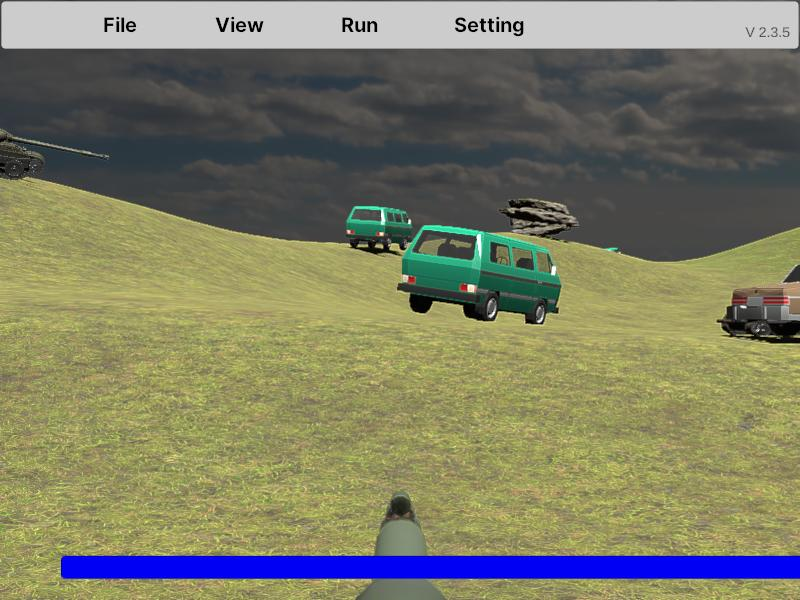Tank: (0, 120, 109, 182)
car: (397, 227, 561, 326), (721, 259, 800, 339), (346, 206, 413, 252)
